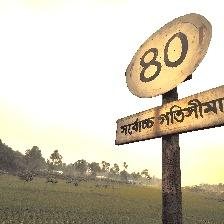Speed-limit: (119, 10, 222, 145)
